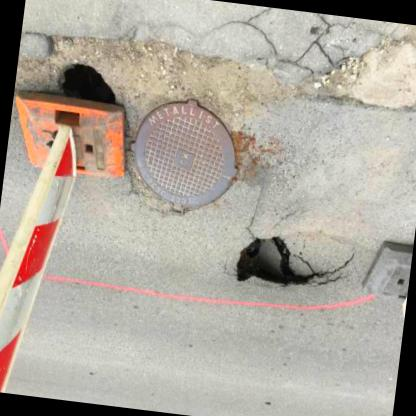manholes: (114, 75, 257, 231)
